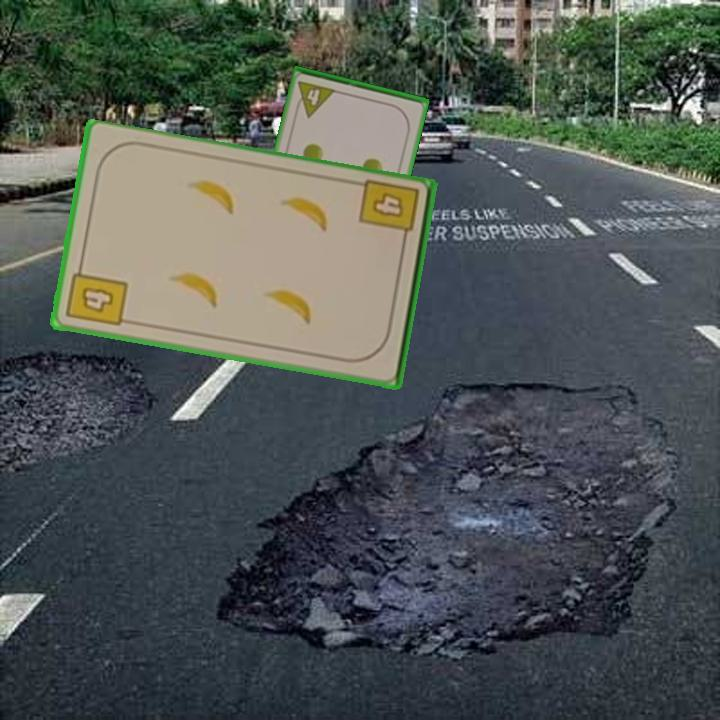4b: (355, 176, 423, 249), (63, 260, 131, 330)
4p: (292, 77, 339, 120)
